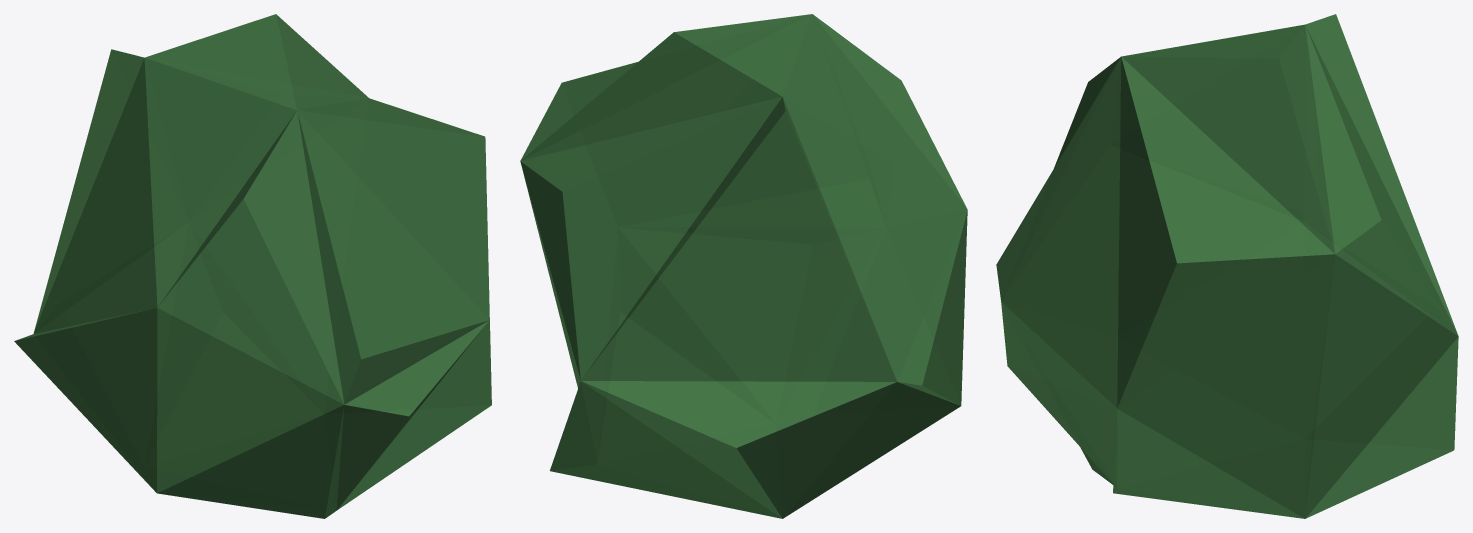
The model's file is Bush.fbx.
3 renders of one model, left to right at view 1: azimuth 30°, elevation 25°; view 2: azimuth 150°, elevation 25°; view 3: azimuth 270°, elevation 25°, orthographic. The views are drawn at different scales.
Parts seen in each view (by area): view 1: Bush; view 2: Bush; view 3: Bush.
Part boxes in pixels (x1=…): Bush: x1=14, y1=14, x2=491, y2=518; Bush: x1=520, y1=14, x2=967, y2=518; Bush: x1=996, y1=14, x2=1458, y2=518.
Bounding box in the file's own units: 2.28 × 2.31 × 2.2.
